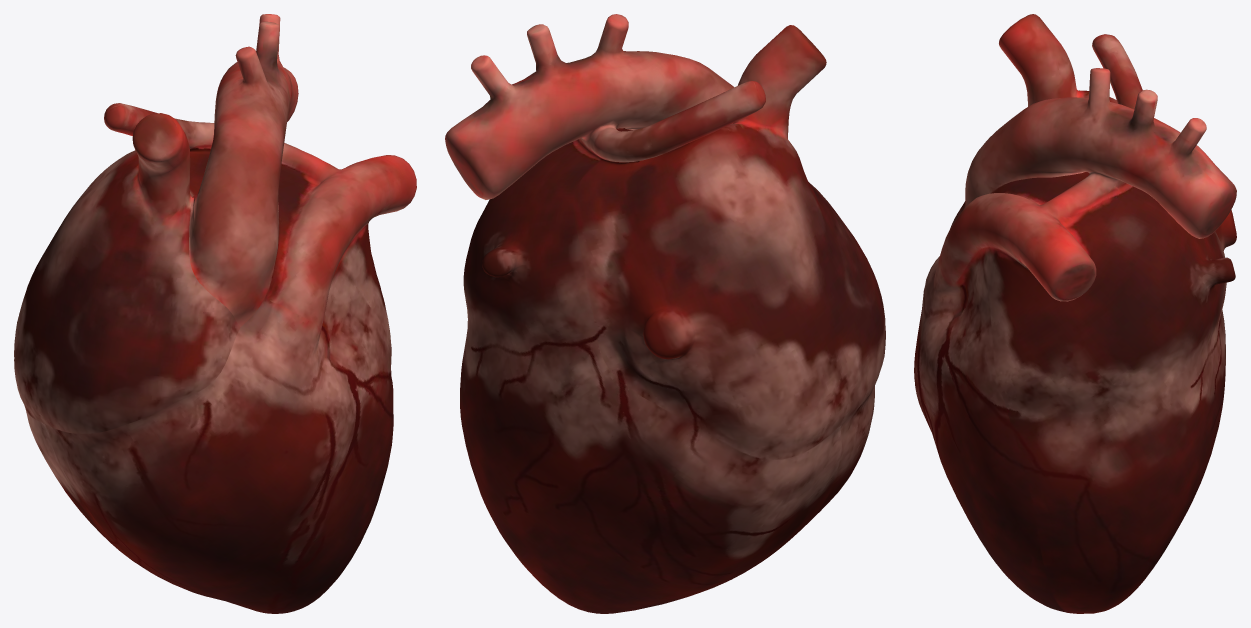
The model's file is heart-lite.glb.
The picture shows the model from 3 angles, left to right: view 1: azimuth 30°, elevation 25°; view 2: azimuth 150°, elevation 25°; view 3: azimuth 270°, elevation 25°; orthographic projection. The views are drawn at different scales.
Visible parts, largest first — view 1: hart:ZBrush_defualt_group_Heart Tex_0; view 2: hart:ZBrush_defualt_group_Heart Tex_0; view 3: hart:ZBrush_defualt_group_Heart Tex_0.
Part boxes in pixels (<box>): hart:ZBrush_defualt_group_Heart Tex_0: <box>14,14,416,613</box>; hart:ZBrush_defualt_group_Heart Tex_0: <box>445,14,885,613</box>; hart:ZBrush_defualt_group_Heart Tex_0: <box>914,14,1236,613</box>.
Bounding box in the file's own units: 1.08 × 1.6 × 0.8801.
1 material, 1 textured.
